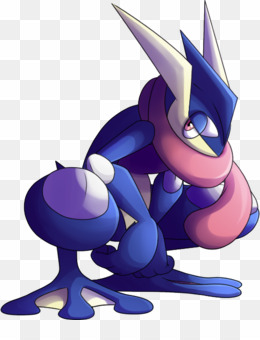greninja: (1, 1, 258, 318)
